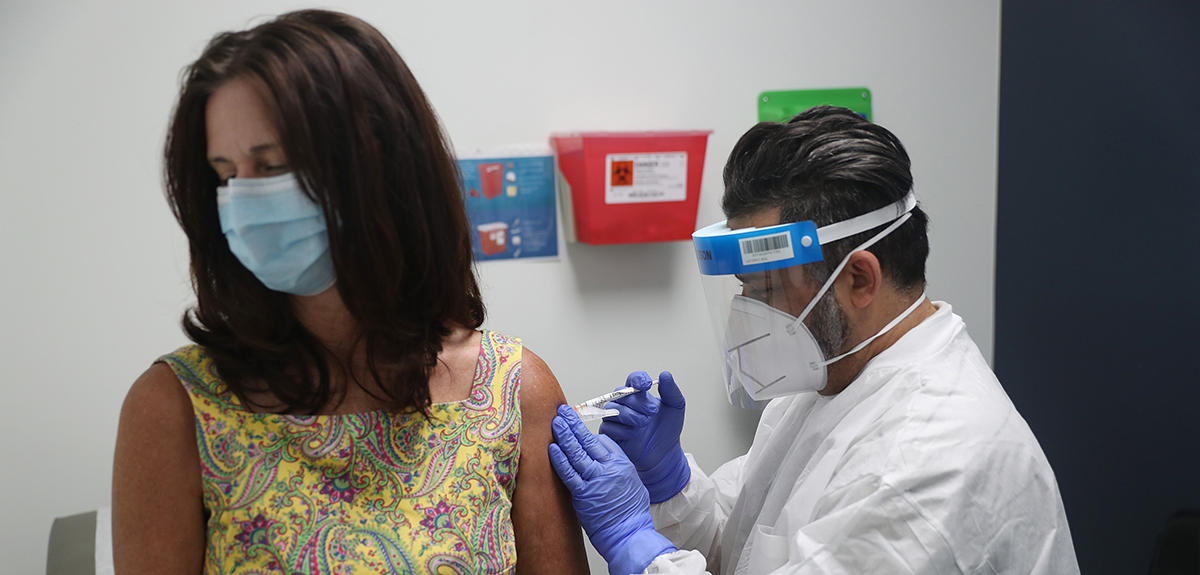with_mask: (213, 130, 327, 285), (726, 261, 829, 399)
